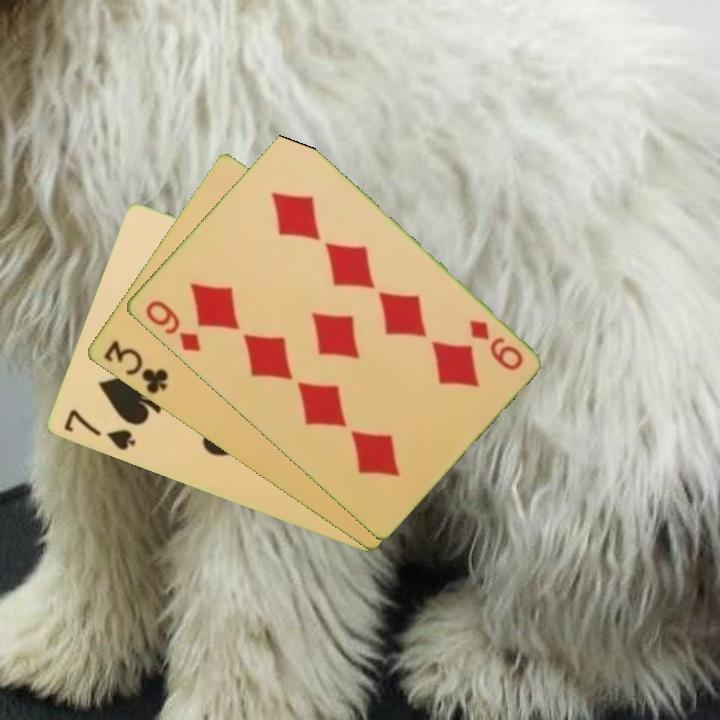3c: (99, 337, 171, 398)
7s: (59, 406, 138, 454)
9d: (141, 296, 204, 355), (465, 316, 526, 374)
